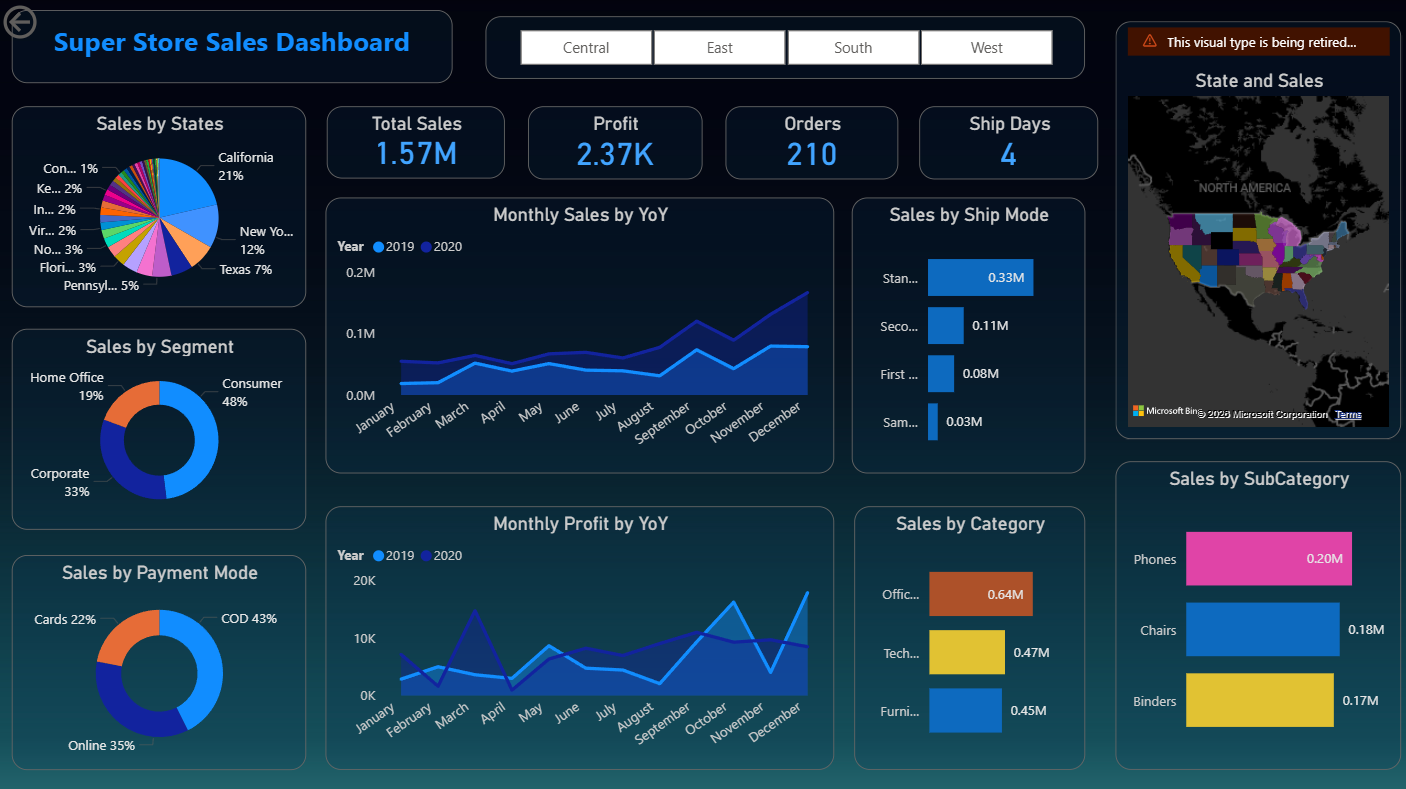

The page's visual inventory and layout, read from the dashboard file:
{"tool":"powerbi","page":{"name":"Page 1","canvas":[1280,720],"ordinal":0},"visuals":[{"type":"clusteredBarChart","title":"Sales by Category","fields":{"Category":["SuperStore_Sales_Dataset (2).Category"],"Y":["Sum(SuperStore_Sales_Dataset (2).Sales)"]},"box":[776.7,459.3,209.3,239.5],"z":0},{"type":"clusteredBarChart","title":"Sales by SubCategory","fields":{"Category":["SuperStore_Sales_Dataset (2).Sub-Category"],"Y":["Sum(SuperStore_Sales_Dataset (2).Sales)"]},"box":[1014,418.6,259.3,280.2],"z":1000},{"type":"clusteredBarChart","title":"Sales by Ship Mode","fields":{"Category":["SuperStore_Sales_Dataset (2).Ship Mode"],"Y":["Sum(SuperStore_Sales_Dataset (2).Sales)"]},"box":[774.4,179.1,211.6,250],"z":2000},{"type":"areaChart","title":"Monthly Sales by YoY","fields":{"Category":["SuperStore_Sales_Dataset (2).Order Date.Variation.Date Hierarchy.Month"],"Y":["Sum(SuperStore_Sales_Dataset (2).Sales)"],"Series":["SuperStore_Sales_Dataset (2).Order Date.Variation.Date Hierarchy.Year"]},"box":[297.7,179.1,461.6,250],"z":3000},{"type":"donutChart","title":"Sales by Segment","fields":{"Category":["SuperStore_Sales_Dataset (2).Segment"],"Y":["Sum(SuperStore_Sales_Dataset (2).Sales)"]},"box":[12.8,298.8,267.4,182.6],"z":4000},{"type":"donutChart","title":"Sales by Payment Mode","fields":{"Category":["SuperStore_Sales_Dataset (2).Payment Mode"],"Y":["Sum(SuperStore_Sales_Dataset (2).Sales)"]},"box":[12.8,503.5,267.4,195.3],"z":5000},{"type":"areaChart","title":"Monthly Profit by YoY","fields":{"Category":["SuperStore_Sales_Dataset (2).Order Date.Variation.Date Hierarchy.Month"],"Series":["SuperStore_Sales_Dataset (2).Order Date.Variation.Date Hierarchy.Year"],"Y":["Sum(SuperStore_Sales_Dataset (2).Profit)"]},"box":[297.7,459.3,461.6,239.5],"z":6000},{"type":"textbox","box":[12.8,9.3,400,66.3],"z":7000},{"type":"kpi","title":"Profit","fields":{"Indicator":["SuperStore_Sales_Dataset (2).Total Profit"],"TrendLine":["SuperStore_Sales_Dataset (2).Sales"]},"box":[481.4,96.5,158.1,66.3],"z":8000},{"type":"kpi","title":"Orders","fields":{"Indicator":["Sum(SuperStore_Sales_Dataset (2).Quantity)"],"TrendLine":["SuperStore_Sales_Dataset (2).Quantity"]},"box":[660.5,96.5,157,66.3],"z":9000},{"type":"actionButton","box":[0,0,100,40],"z":10000},{"type":"filledMap","fields":{"Category":["SuperStore_Sales_Dataset (2).State"],"Series":["SuperStore_Sales_Dataset (2).Sales"]},"box":[1014,19.8,259.3,379.1],"z":11000},{"type":"kpi","title":"Ship Days","fields":{"Indicator":["Avg(SuperStore_Sales_Dataset (2).AvgDelivery)"],"TrendLine":["SuperStore_Sales_Dataset (2).Sales"]},"box":[836,96.5,162.8,66.3],"z":12000},{"type":"pieChart","title":" Sales by States","fields":{"Category":["SuperStore_Sales_Dataset (2).State"],"Y":["Sum(SuperStore_Sales_Dataset (2).Sales)"]},"box":[12.8,96.5,267.4,182.6],"z":13000},{"type":"slicer","fields":{"Values":["SuperStore_Sales_Dataset (2).Region"]},"box":[441.9,15.1,544.2,57],"z":14000},{"type":"kpi","title":"Total Sales","fields":{"TrendLine":["SuperStore_Sales_Dataset (2).Sales"],"Indicator":["Sum(SuperStore_Sales_Dataset (2).Total Sales)"]},"box":[297.8,96.1,161.9,65.9],"z":15000}]}

Visuals, with their boxes on the page's 1280x720 design canvas (x1, y1, x2, y2). These are canvas units, not pixel positions in the 1406x789 screenshot, which may show the page scaled, cropped or inside an application window:
"Sales by Category" clusteredBarChart: left=777, top=459, right=986, bottom=699
"Sales by SubCategory" clusteredBarChart: left=1014, top=419, right=1273, bottom=699
"Sales by Ship Mode" clusteredBarChart: left=774, top=179, right=986, bottom=429
"Monthly Sales by YoY" areaChart: left=298, top=179, right=759, bottom=429
"Sales by Segment" donutChart: left=13, top=299, right=280, bottom=481
"Sales by Payment Mode" donutChart: left=13, top=504, right=280, bottom=699
"Monthly Profit by YoY" areaChart: left=298, top=459, right=759, bottom=699
textbox: left=13, top=9, right=413, bottom=76
"Profit" kpi: left=481, top=96, right=640, bottom=163
"Orders" kpi: left=660, top=96, right=818, bottom=163
actionButton: left=0, top=0, right=100, bottom=40
filledMap - SuperStore_Sales_Dataset (2).State x SuperStore_Sales_Dataset (2).Sales: left=1014, top=20, right=1273, bottom=399
"Ship Days" kpi: left=836, top=96, right=999, bottom=163
" Sales by States" pieChart: left=13, top=96, right=280, bottom=279
slicer - SuperStore_Sales_Dataset (2).Region: left=442, top=15, right=986, bottom=72
"Total Sales" kpi: left=298, top=96, right=460, bottom=162
